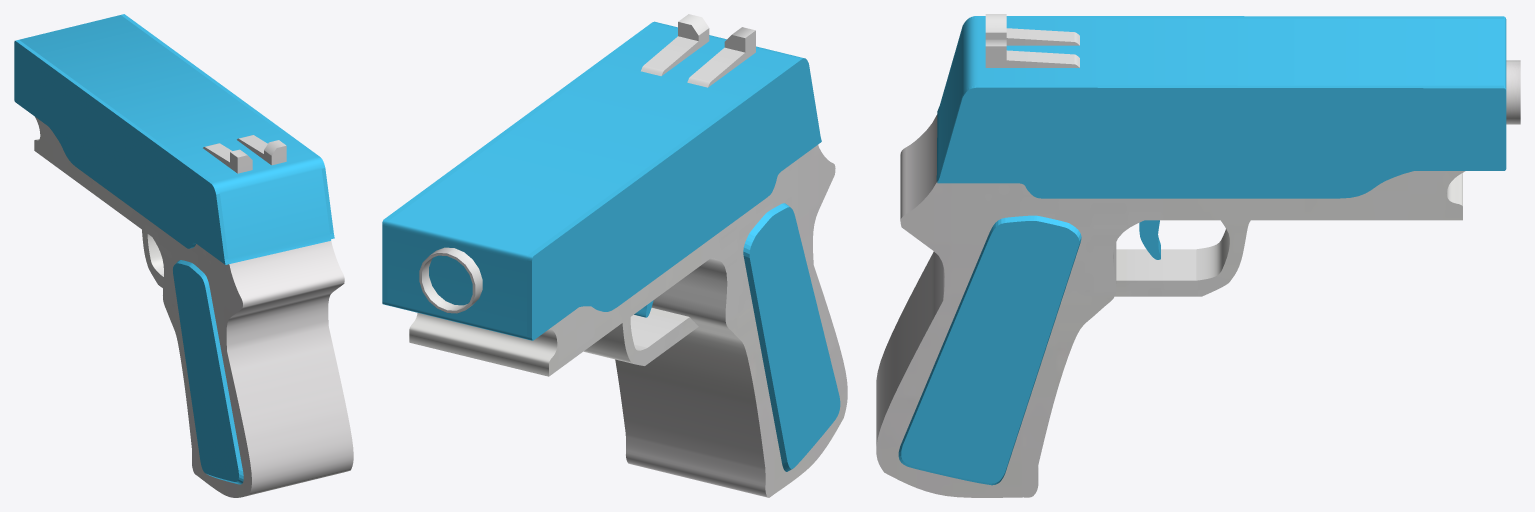
File: Gun.FBX
The picture shows the model from 3 angles, left to right: view 1: azimuth 30°, elevation 25°; view 2: azimuth 150°, elevation 25°; view 3: azimuth 270°, elevation 25°; orthographic projection. The views are drawn at different scales.
Parts seen in each view (by area): view 1: Body; view 2: Body, Barrel; view 3: Body, Barrel.
Part boxes in pixels (x1=…): Body: x1=14, y1=14, x2=353, y2=497; Body: x1=382, y1=14, x2=847, y2=497; Barrel: x1=419, y1=247, x2=482, y2=313; Body: x1=876, y1=14, x2=1506, y2=497; Barrel: x1=1506, y1=60, x2=1520, y2=124.
Bounding box in the file's own units: 2.28 × 6.44 × 8.66.
Materials: 1 (1 with a texture image).
